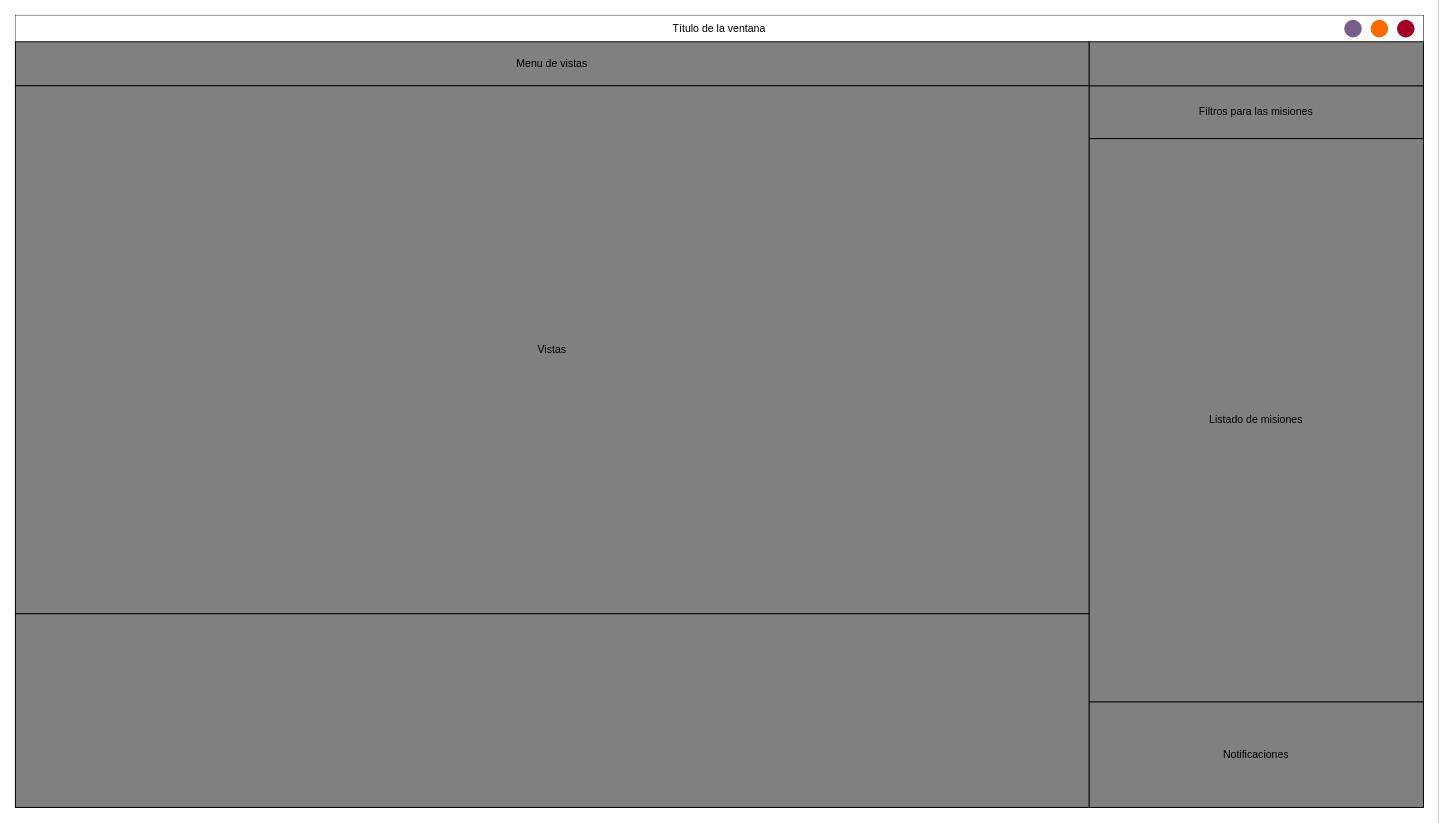
Image size: 1439x823. Some labels were removed from this diagram. Here are the shapes that lost their labels. From the top down, the box of each, then its label:
(1088, 41, 1423, 86): Información financiera
(15, 613, 1089, 807): Acciones para la vista actual
